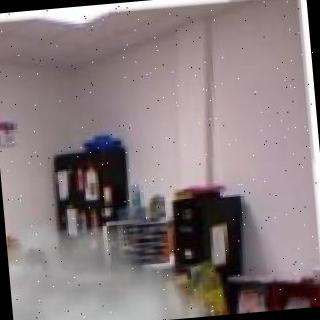smoke: (7, 234, 217, 320)
